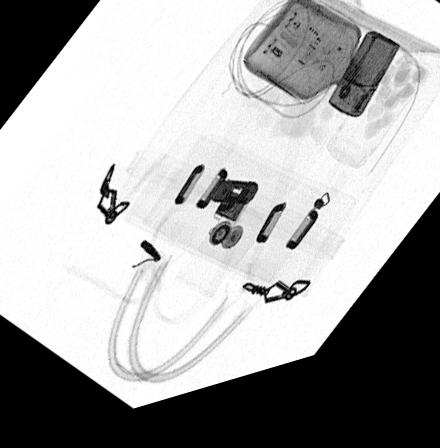Lighter: (326, 50, 399, 138)
